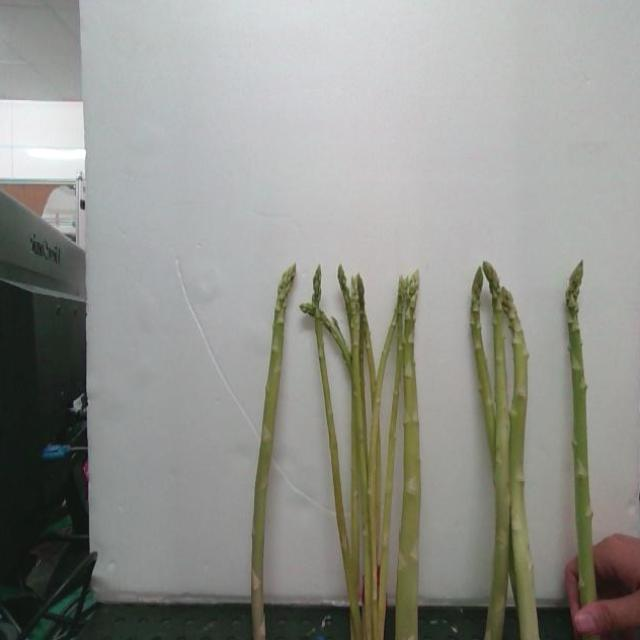aspargus: (251, 267, 298, 640), (566, 265, 597, 608)
